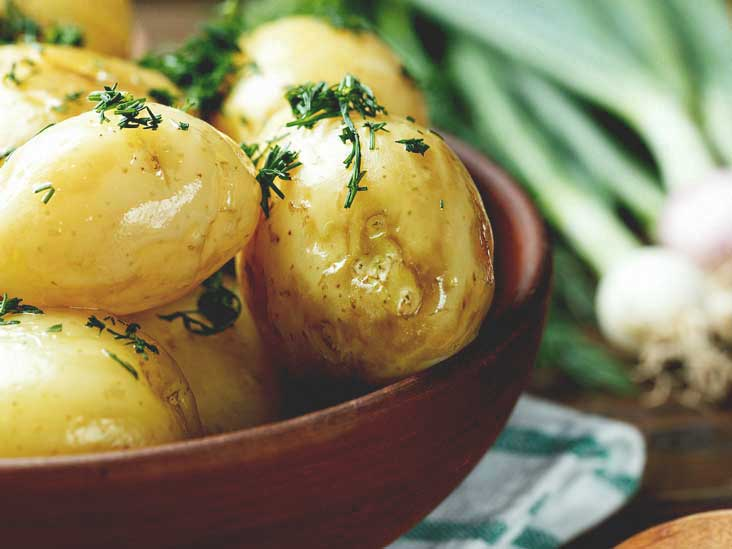boiled potatoes: (1, 17, 513, 446)
